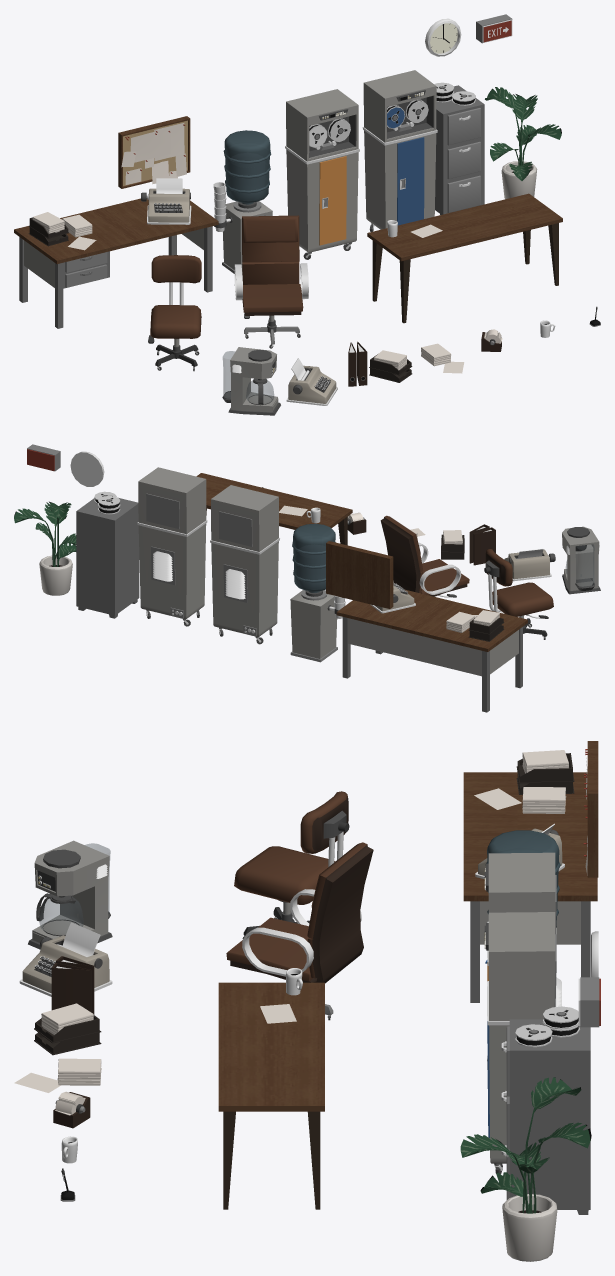
Rendered from 60s_office_props.glb.
3 views of the same model, one above another, from view 1: azimuth 30°, elevation 25°; view 2: azimuth 150°, elevation 25°; view 3: azimuth 270°, elevation 25° (orthographic). The views are drawn at different scales.
Visible parts, largest first — view 1: Cube.022, Cube.000, Cube.016, Cube.020, Cube.021, Cube.003, Cube.023, Cube.11647, Cube.004, Cube.015, Cylinder.003, Cube.007 (+3 smaller); view 2: Cube.016, Cube.000, Cube.022, Cube.003, Cube.023, Cube.11647, Cube.021, Cube.004, Cube.020, Cylinder.003, Cube.015, Cube (+6 smaller); view 3: Cube.020, Cube.003, Cube.016, Cube.021, Cube.000, Cylinder.003, Cube.015, Cube.004, Cube.022, Cube, Cube.11647, Cube.001 (+12 smaller).
Part boxes in pixels (left/top/right/bottom): Cube.022: left=285, top=89, right=359, bottom=259; Cube.000: left=362, top=70, right=437, bottom=231; Cube.016: left=14, top=198, right=218, bottom=328; Cube.020: left=367, top=193, right=562, bottom=323; Cube.021: left=234, top=215, right=308, bottom=348; Cube.003: left=435, top=85, right=484, bottom=214; Cube.023: left=213, top=130, right=272, bottom=273; Cube.11647: left=118, top=116, right=190, bottom=188; Cube.004: left=148, top=255, right=201, bottom=371; Cube.015: left=222, top=347, right=280, bottom=415; Cylinder.003: left=485, top=87, right=561, bottom=199; Cube.007: left=141, top=178, right=191, bottom=224; Cube.016: left=336, top=589, right=527, bottom=712; Cube.000: left=137, top=467, right=207, bottom=626; Cube.022: left=210, top=485, right=279, bottom=644; Cube.003: left=76, top=497, right=139, bottom=618; Cube.023: left=290, top=523, right=345, bottom=662; Cube.11647: left=326, top=541, right=394, bottom=608; Cube.021: left=380, top=515, right=469, bottom=597; Cube.004: left=484, top=549, right=553, bottom=639; Cube.020: left=196, top=473, right=352, bottom=545; Cylinder.003: left=14, top=501, right=76, bottom=595; Cube.015: left=562, top=526, right=600, bottom=594; Cube: left=504, top=548, right=555, bottom=581; Cube.020: left=218, top=982, right=324, bottom=1209; Cube.003: left=501, top=1019, right=590, bottom=1214; Cube.016: left=463, top=772, right=597, bottom=1002; Cube.021: left=226, top=842, right=373, bottom=1020; Cube.000: left=484, top=912, right=556, bottom=1173; Cylinder.003: left=460, top=1077, right=591, bottom=1261; Cube.015: left=28, top=840, right=112, bottom=949; Cube.004: left=234, top=791, right=349, bottom=938; Cube.022: left=484, top=852, right=561, bottom=1006; Cube: left=19, top=922, right=112, bottom=996; Cube.11647: left=583, top=741, right=598, bottom=877; Cube.001: left=51, top=962, right=91, bottom=1012.
Bounding box in the file's own units: 8.06 × 2.72 × 5.1.
39 materials, 3 textured.
